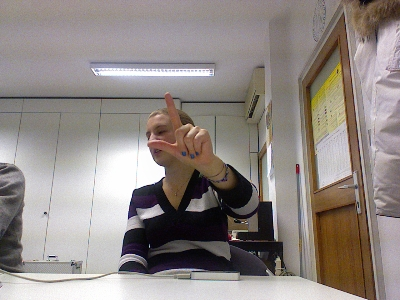枪: (145, 90, 214, 168)
